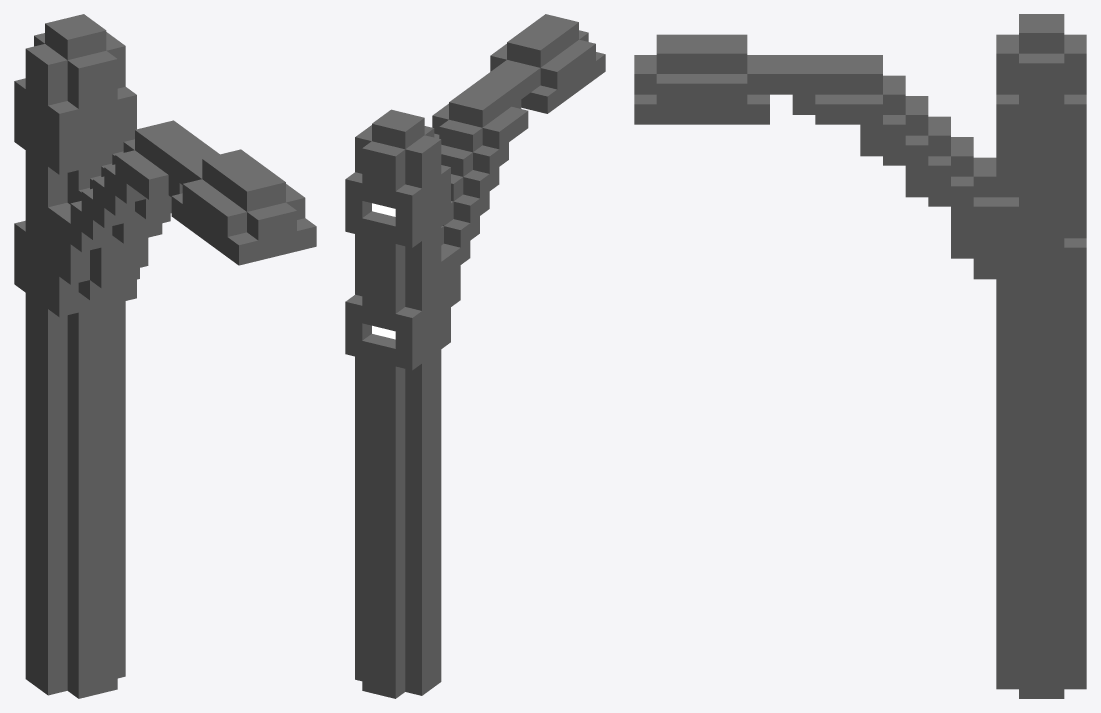
The model's file is LampaUliczna.dae.
3 views of the same model, side by side, from view 1: azimuth 30°, elevation 25°; view 2: azimuth 150°, elevation 25°; view 3: azimuth 270°, elevation 25° (orthographic). The views are drawn at different scales.
Parts seen in each view (by area): view 1: LampaUliczna; view 2: LampaUliczna; view 3: LampaUliczna.
Boxes of the visible parts, <box> form: LampaUliczna: <box>14,14,316,698</box>; LampaUliczna: <box>345,14,605,698</box>; LampaUliczna: <box>634,14,1086,698</box>.
Bounding box in the file's own units: 4 × 32 × 20.
Materials: 1 (1 with a texture image).
